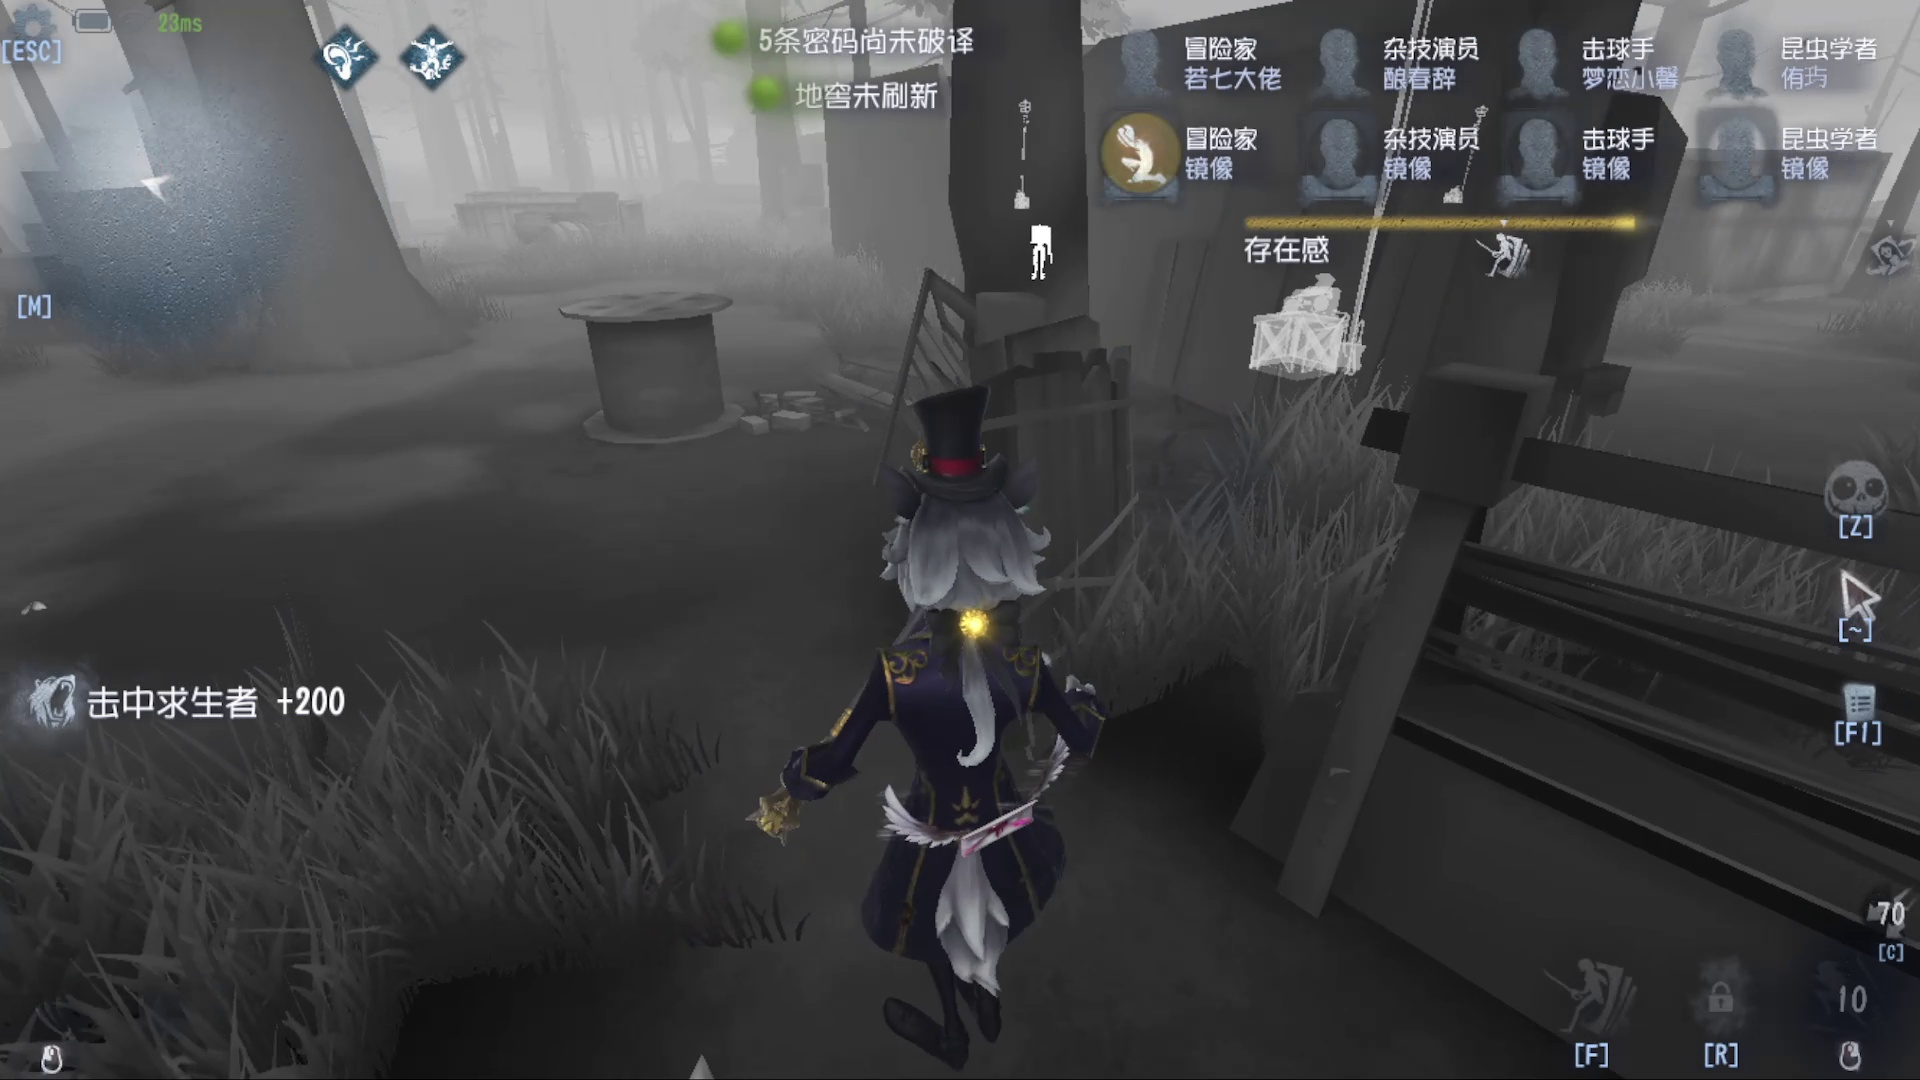密码机: (1172, 247, 1402, 380), (998, 87, 1043, 216)
